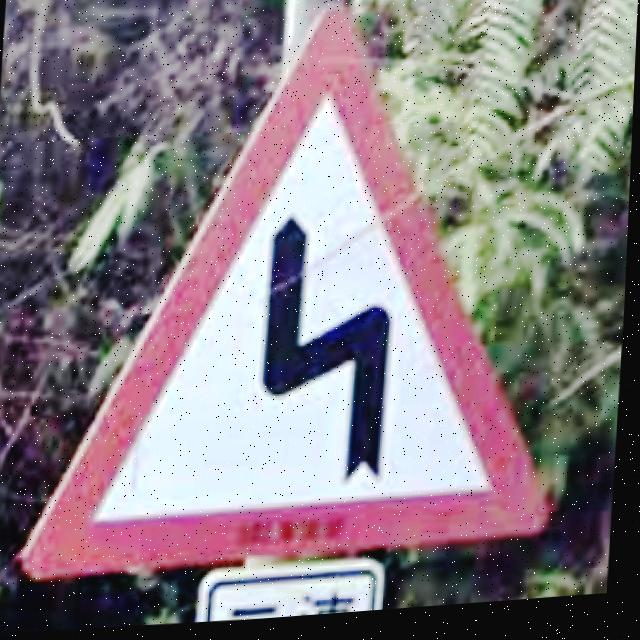doublebendleft: (23, 12, 554, 583)
